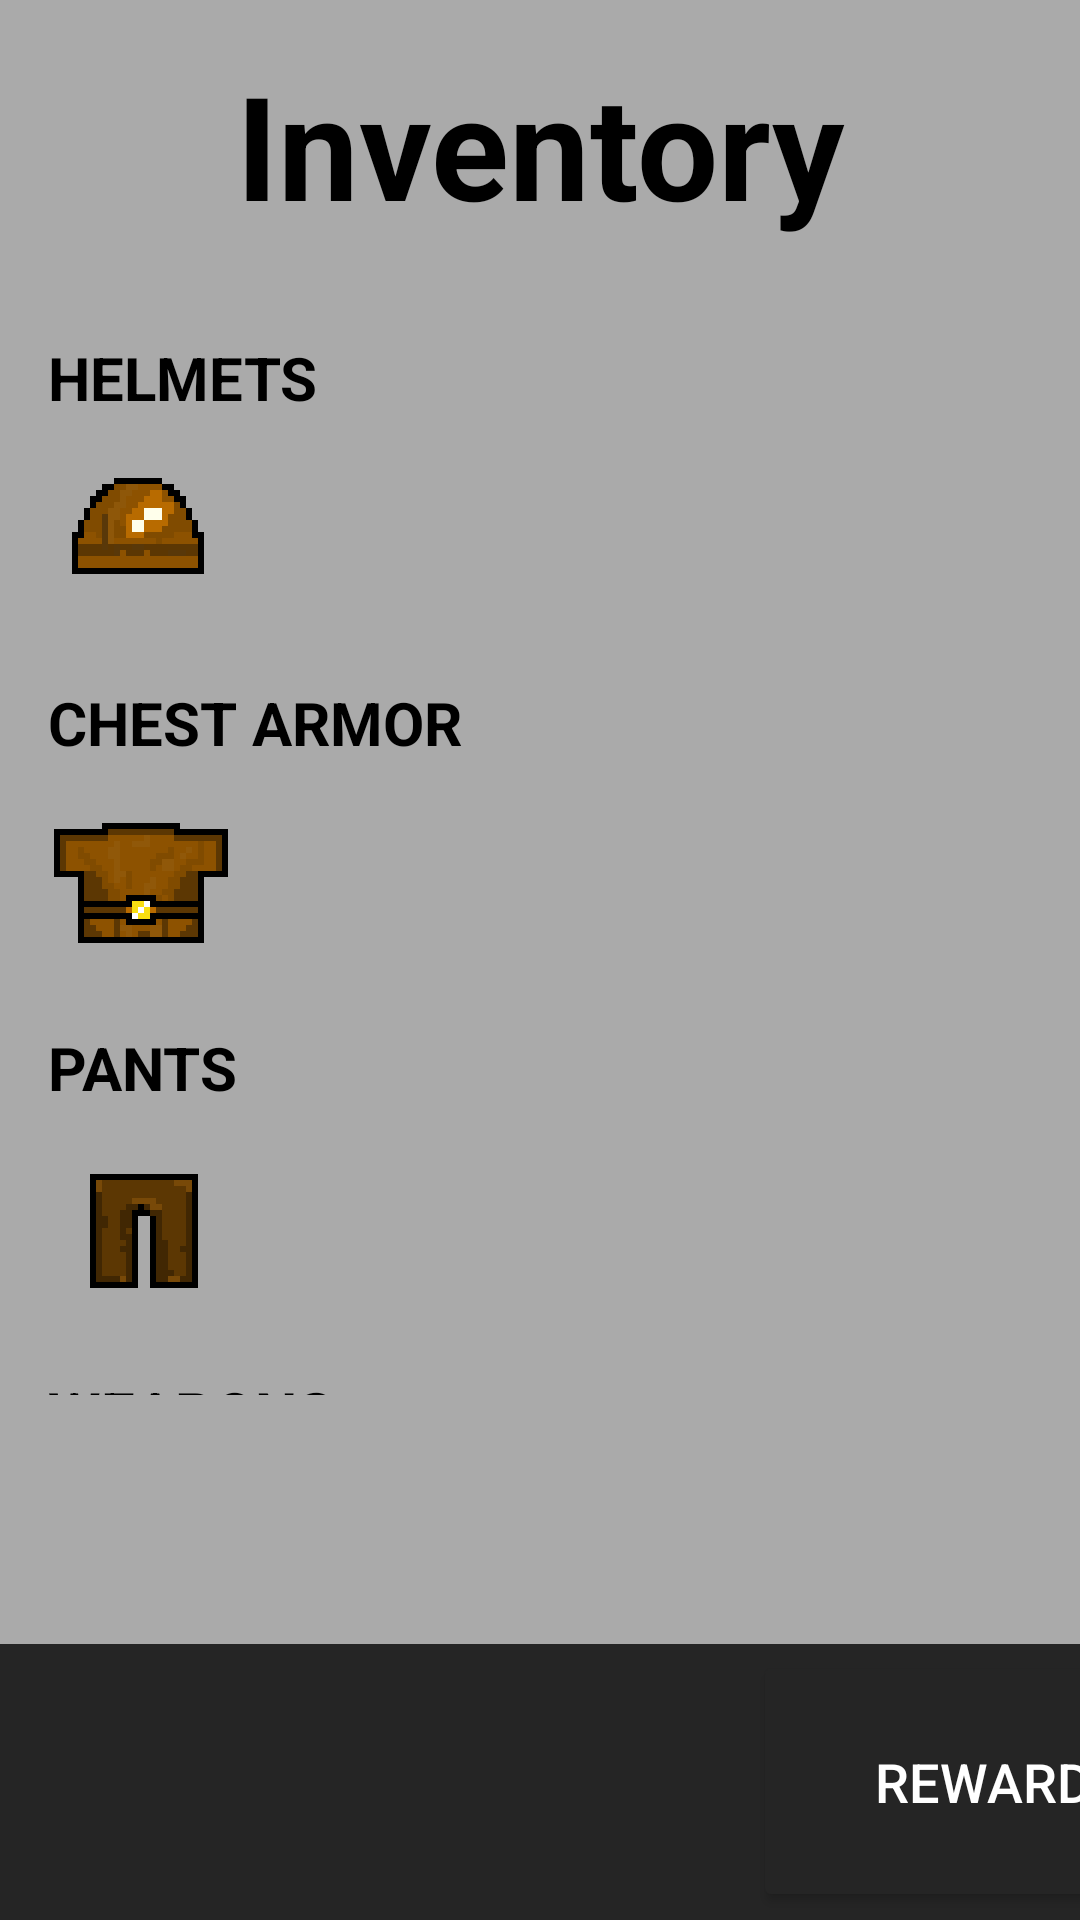

Icons on this 1080w x 1920h Android screen, each with the point to tap as (x,y):
Helmet 1: (138,526)
